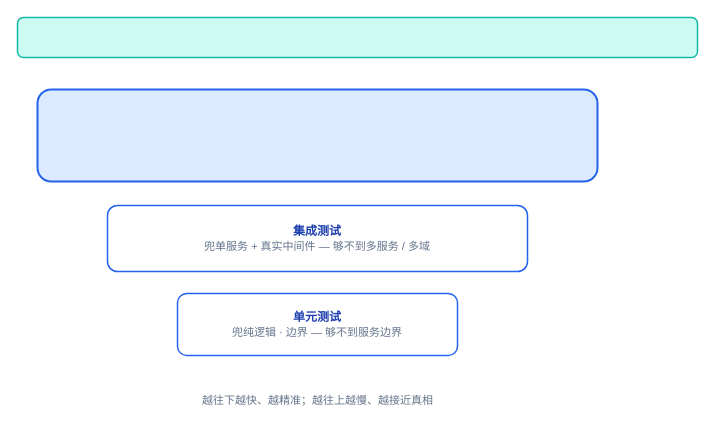
Image size: 716x435. Some labels were removed from this diagram. Each missing label, with the box of its shape:
AI 编码时代：bug 分布整体上移到集成层 → 端到端测试成为兜底闸: (16, 16, 698, 58)
端到端测试 跨系统 · 跨域名 · 跨业务 · 落库验证最终态: (36, 88, 598, 182)
